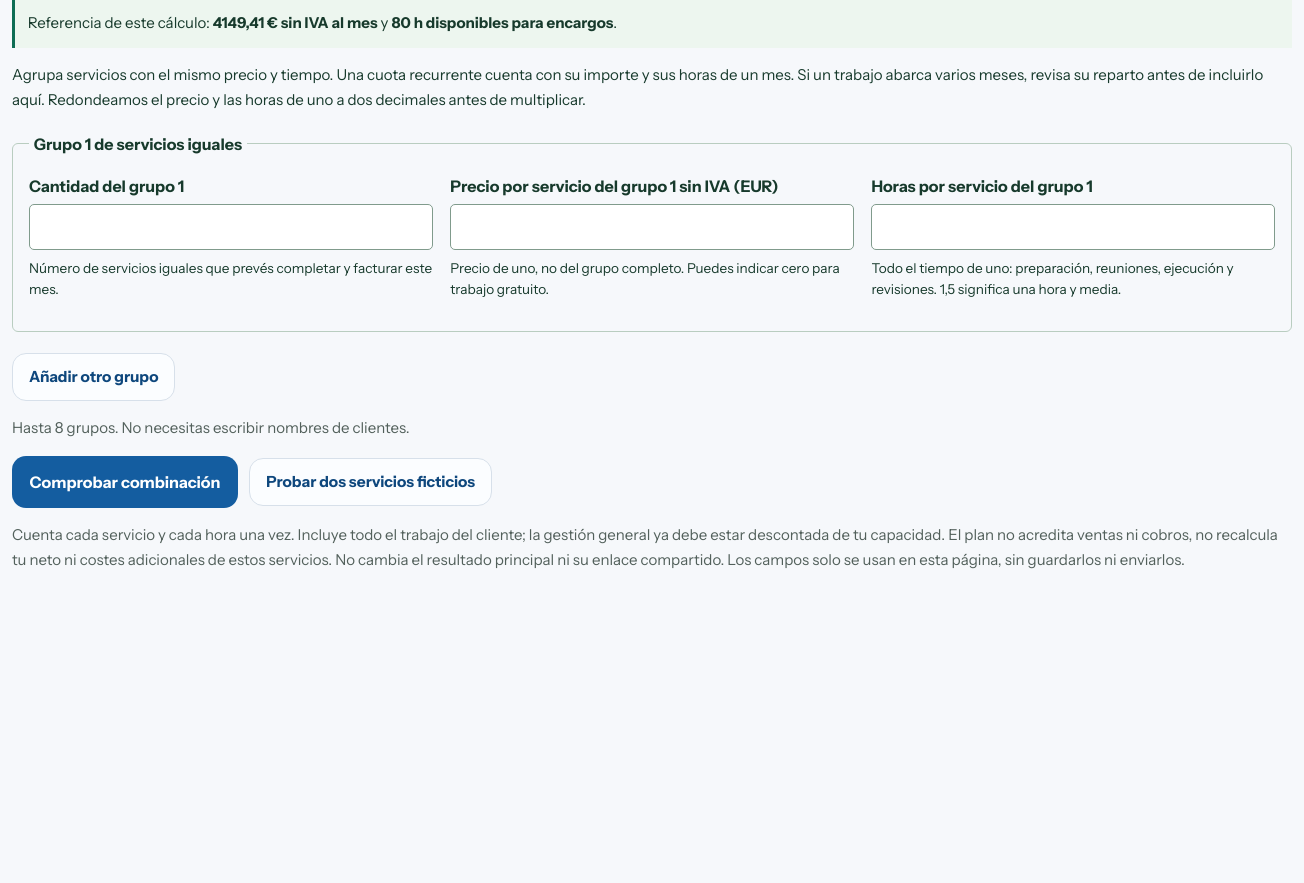
monthly portfolio editor › keeps the remaining row values when removing a service group and invalidates the old plan
What coordinates should you click on to do the following:
click the button "Probar dos servicios ficticios"
I would click on:
 (371, 482)
Its box is [249,458,492,506].
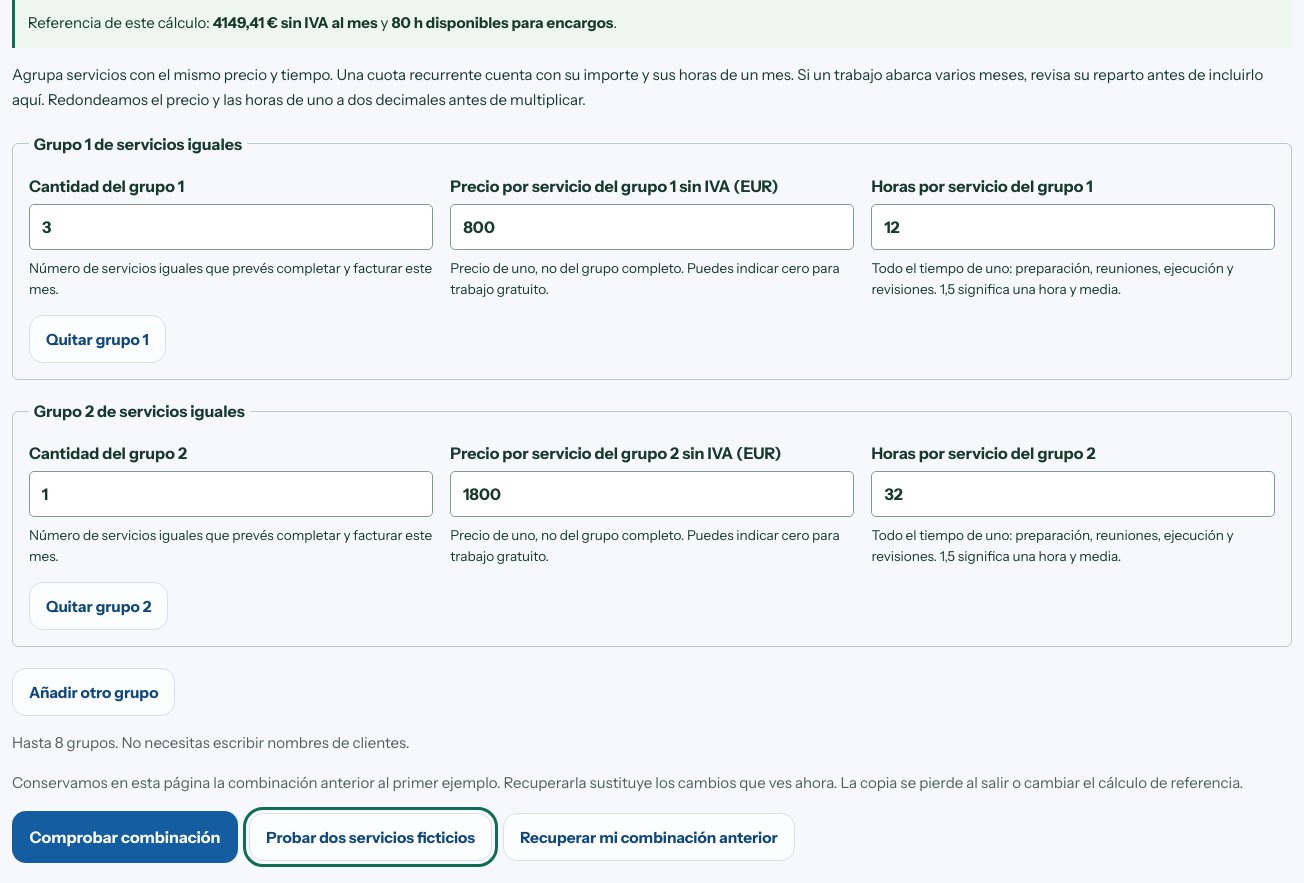
What coordinates should you click on to do the following:
click the button "Quitar grupo 1"
I would click on:
 (97, 339)
Its box is [29,315,166,363].
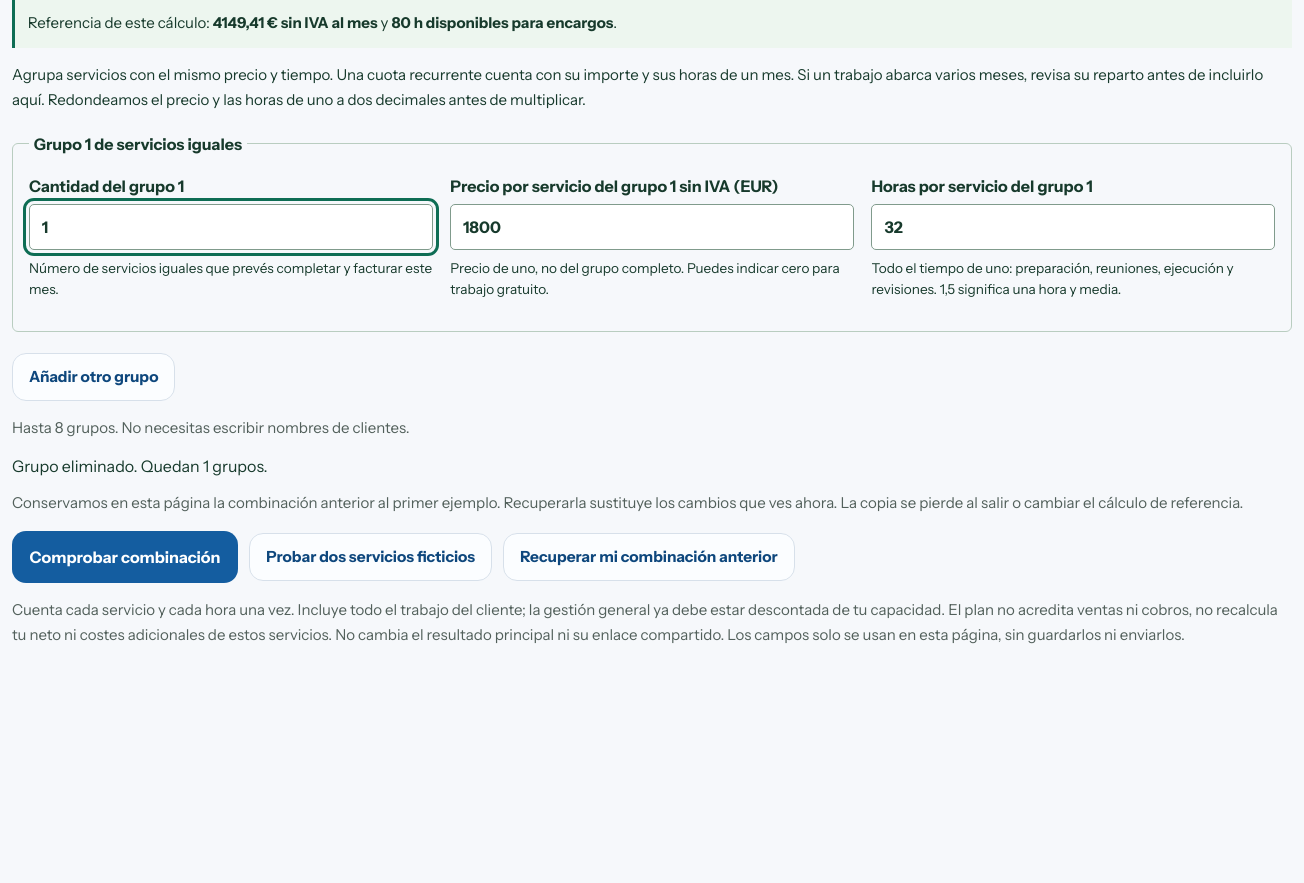
What coordinates should you click on to do the following:
click the button "Comprobar combinación"
I would click on:
 (125, 557)
Its box is [12,531,238,583].
(page scrolled)
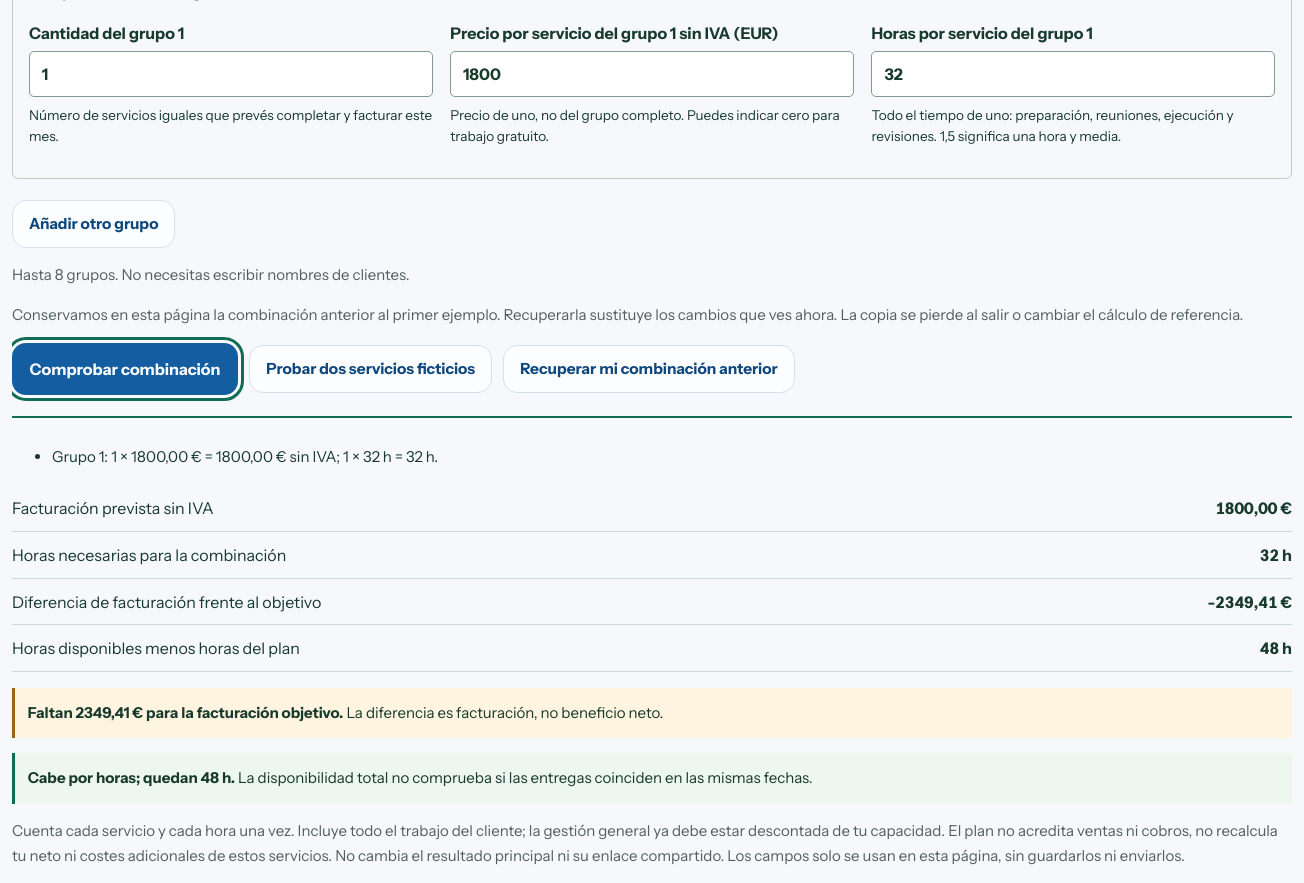
Result: the message named "Plan de servicios combinados" shows "Faltan 2349,41" at [28,703,343,722]
Result: the message named "Plan de servicios combinados" shows "quedan 48 h" at [28,768,235,787]
